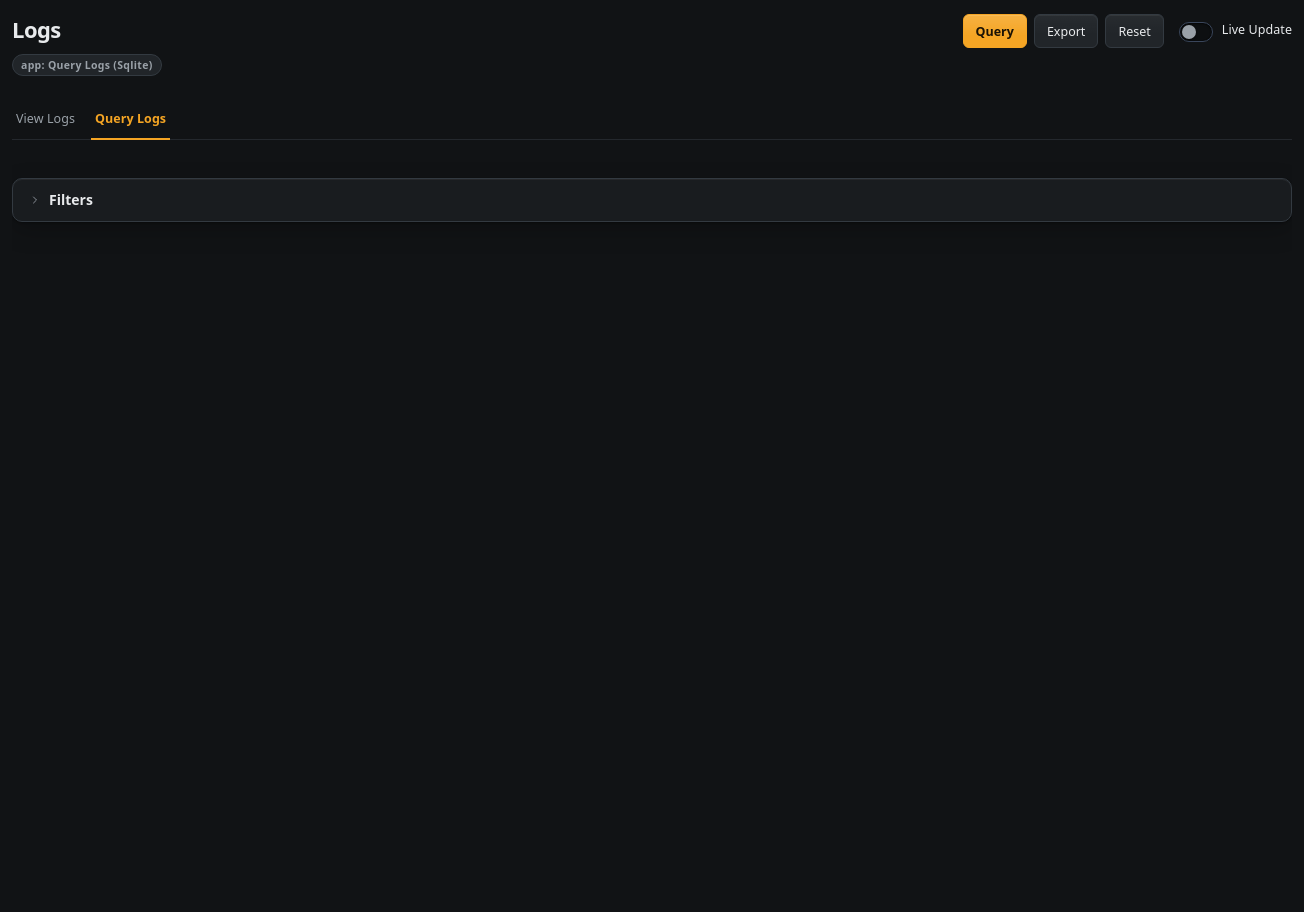
Test: Query Logs: the filter panel below 960 › Query sends the same filters and folds the panel, which then says what is set
Step 1. Click the button "Filters" → x=71, y=199, box [13,179,1291,221]
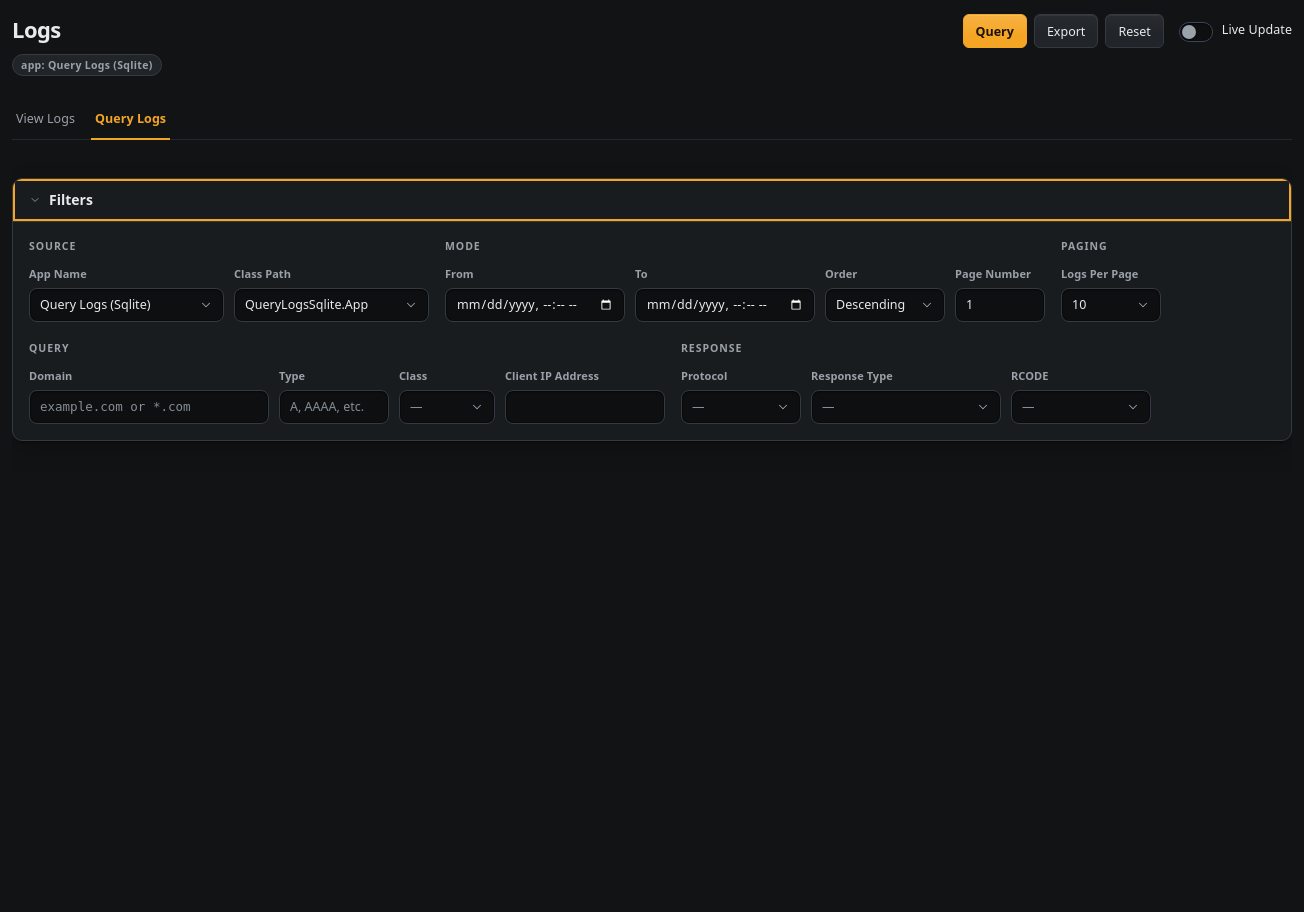
Step 2. Type "home.test" into the field labelled "Domain" → x=149, y=407, box [29,390,269,424]
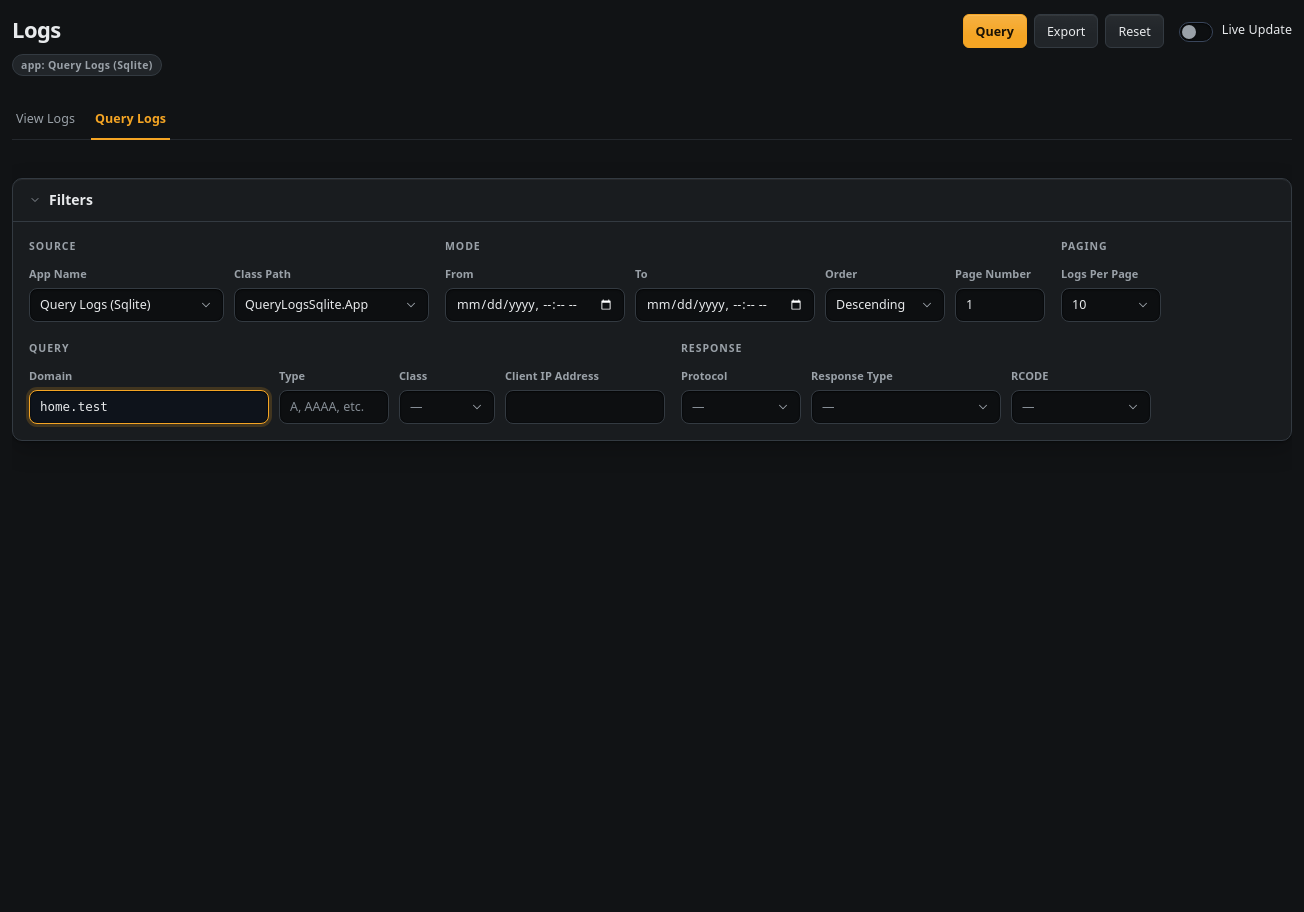
Step 3. Click the dropdown named "Protocol" → x=741, y=407, box [681,390,801,424]
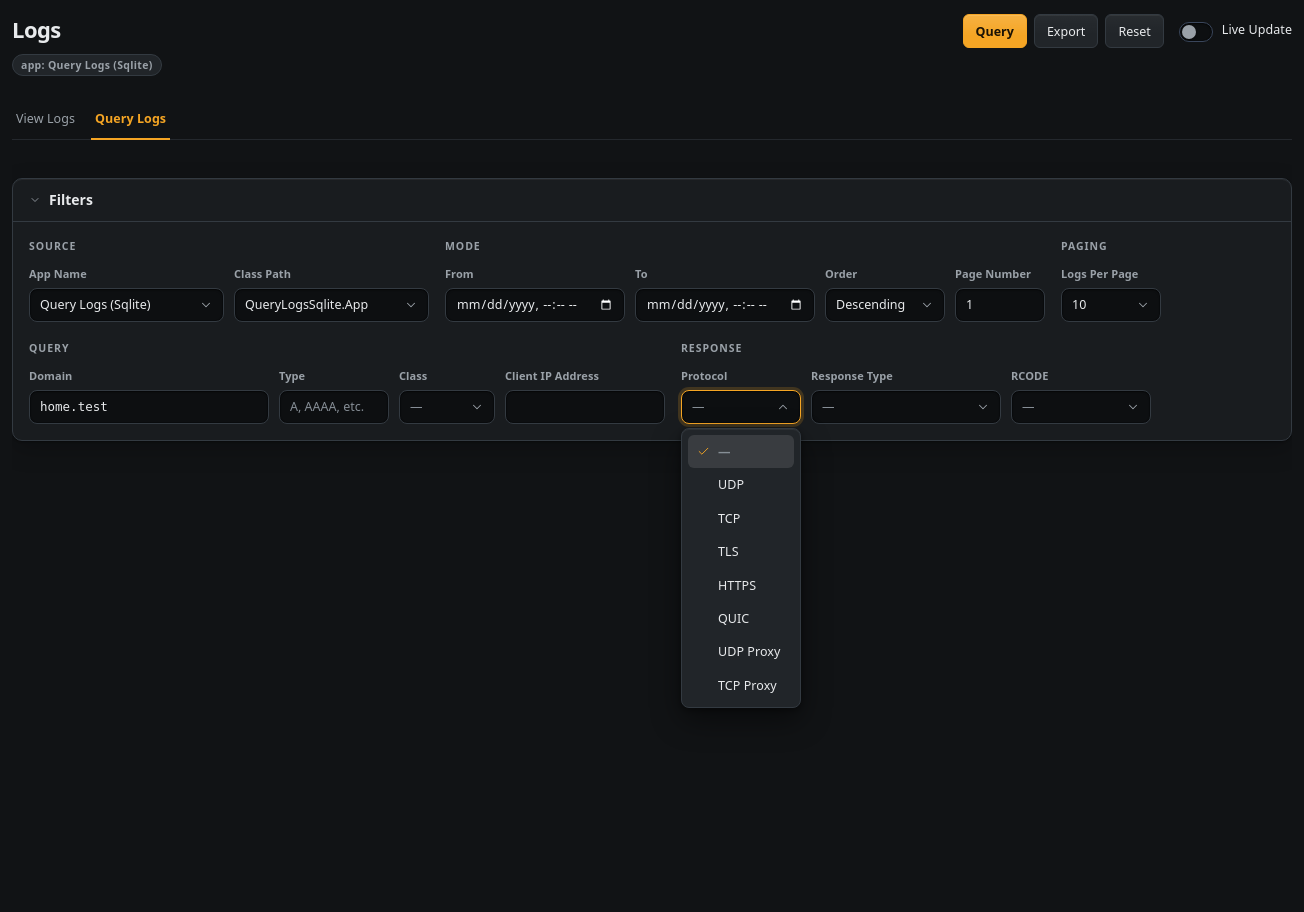
Step 4. Click the option "UDP" → x=731, y=485, box [718,476,744,493]
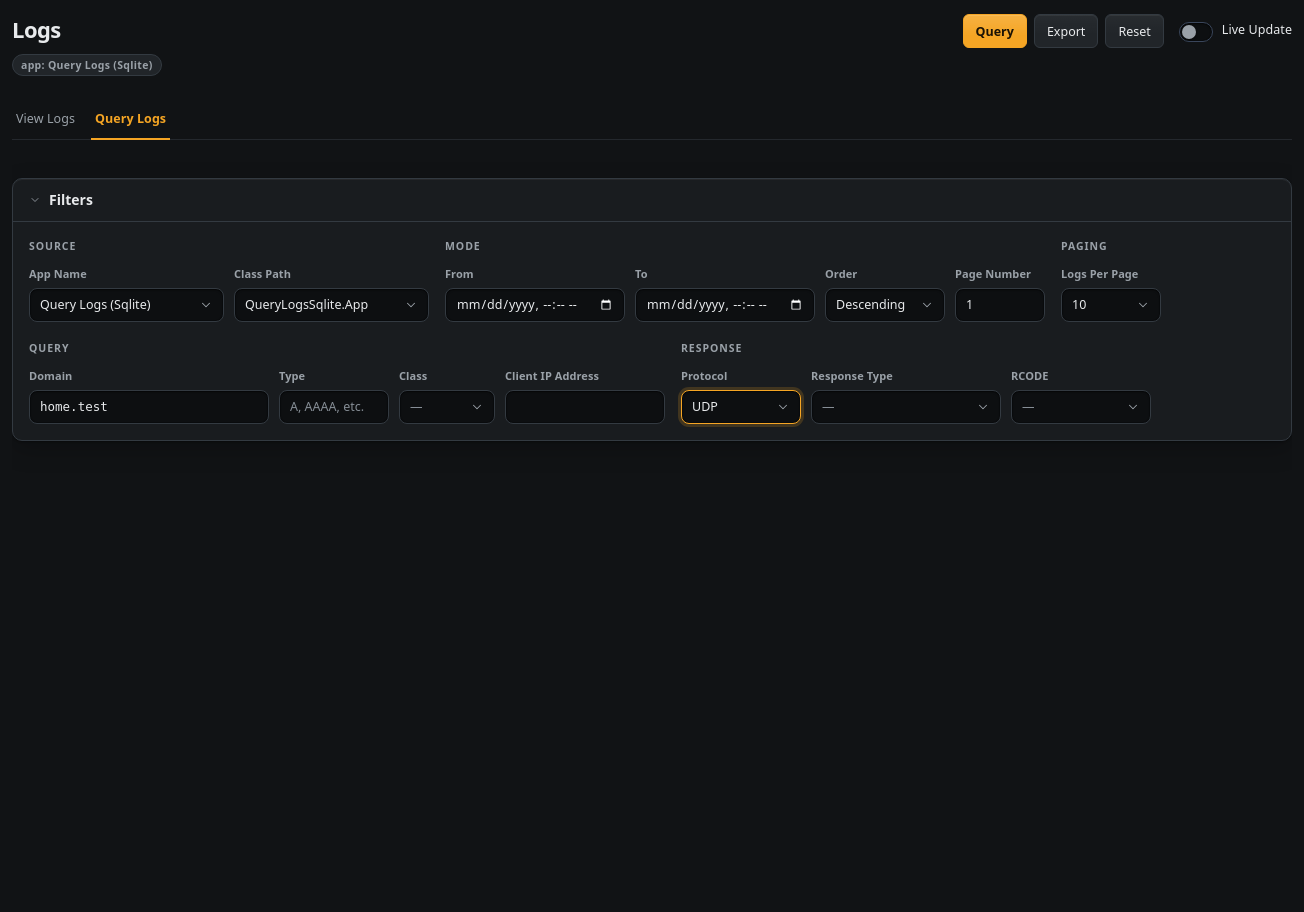
Step 5. Click the button "Query" → x=995, y=31, box [962,14,1027,48]
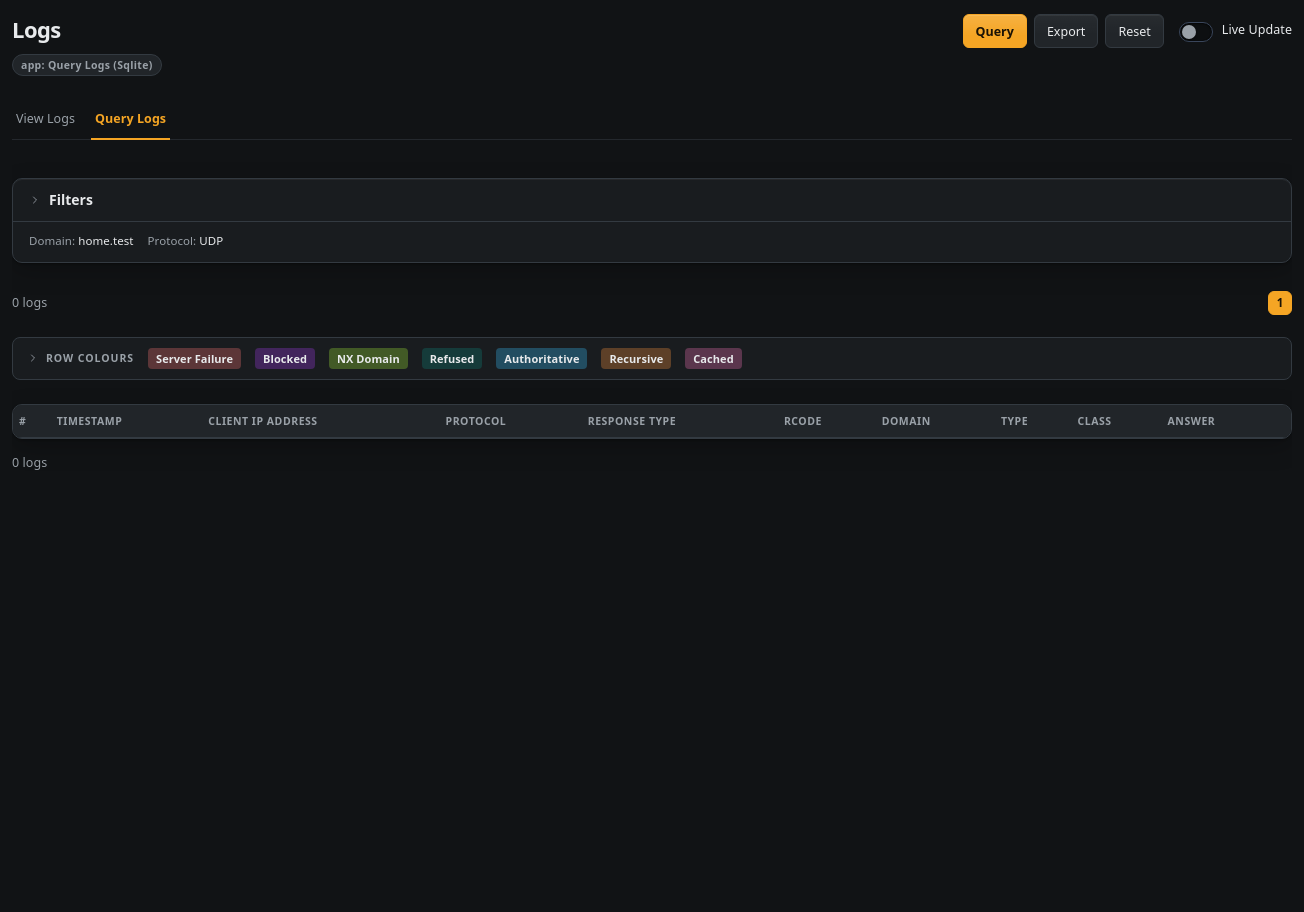
Check: the element showing "Domain: home.test Protocol: UDP" is shown, box [13,221,1291,262]
